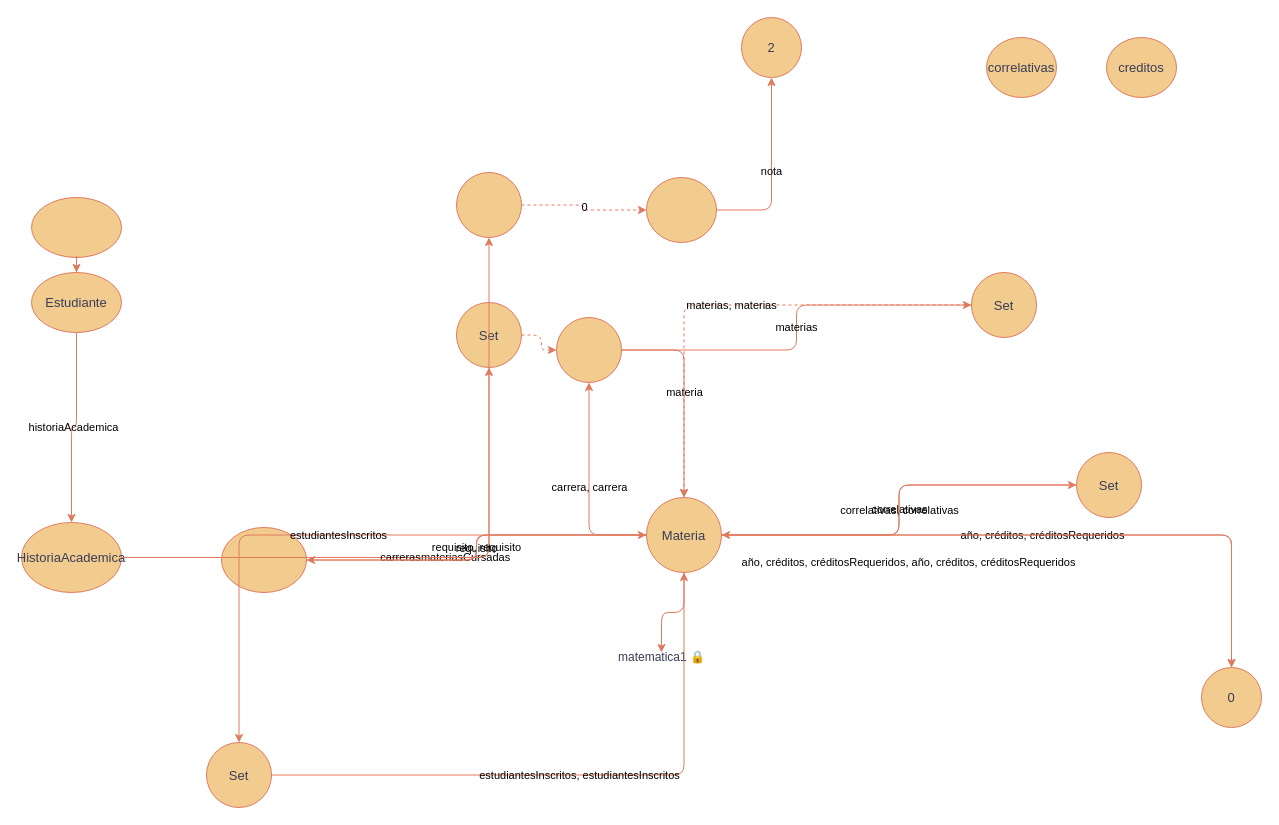
This 1279x825 diagram has some shape labels left out. The box of each missing label's shape, as (x1, y1, x2, y2) in pixels:
alex: (30, 196, 122, 258)
Carrera: (556, 316, 622, 382)
DataDeMateria: (646, 176, 716, 242)
List: (456, 172, 522, 238)
sinRequisito: (220, 526, 306, 592)
